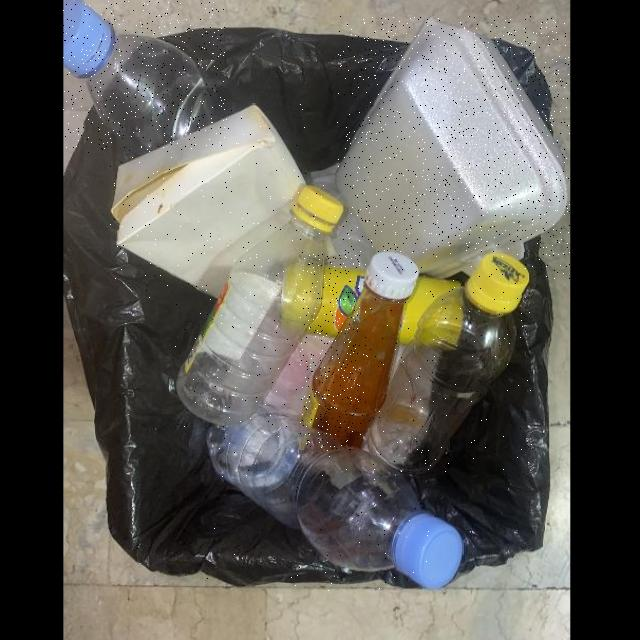glass: (300, 251, 421, 449)
paper: (111, 104, 307, 299)
plastic: (206, 403, 463, 591), (175, 183, 345, 426), (362, 252, 532, 474), (64, 1, 225, 153)
styrofoam: (337, 16, 570, 279)
